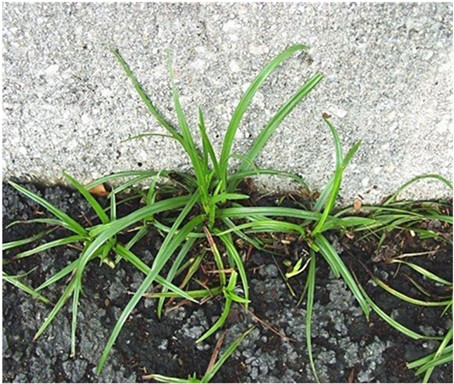crabgrass: (48, 92, 397, 339)
